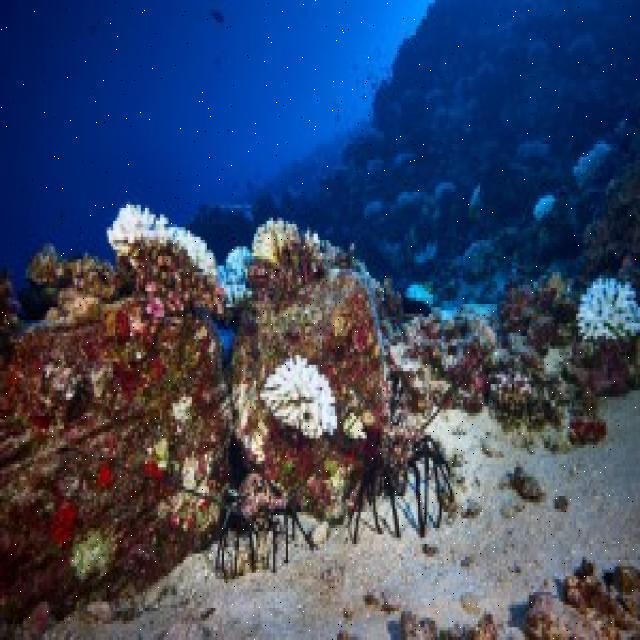Bleached: (98, 202, 219, 277), (254, 350, 343, 449), (570, 280, 640, 347), (248, 221, 321, 258)
Healthy: (131, 272, 229, 329), (500, 288, 569, 353), (246, 259, 327, 308)
